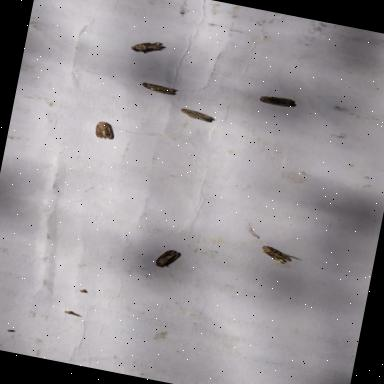pbw: (260, 246, 304, 268), (131, 37, 169, 58), (259, 94, 299, 110), (155, 248, 183, 270), (141, 82, 181, 97), (180, 108, 216, 124), (95, 120, 118, 141)
